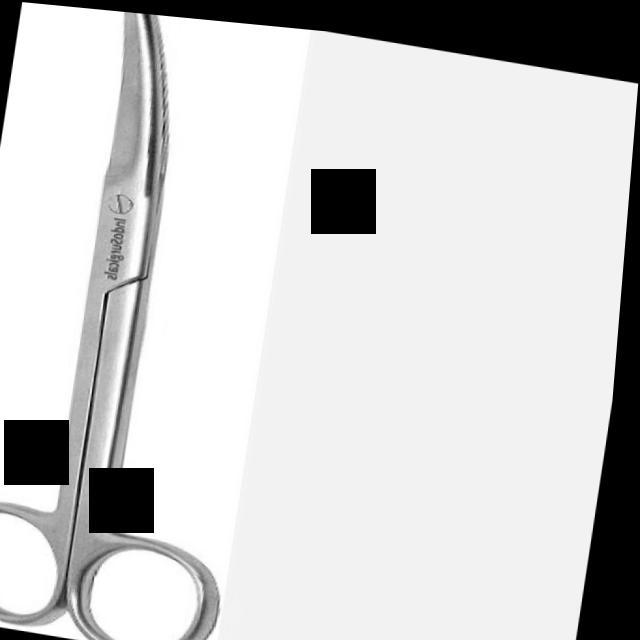Curved Mayo: (0, 0, 306, 640)
